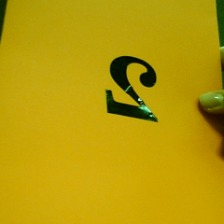orange2: (102, 47, 166, 125)
